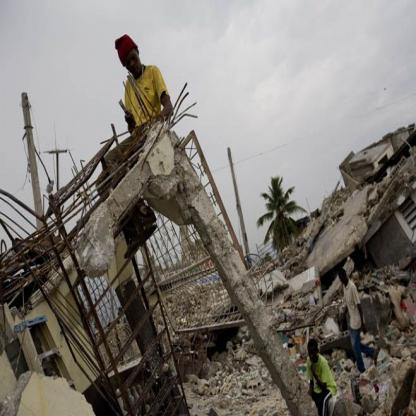rebar: (0, 74, 196, 305)
